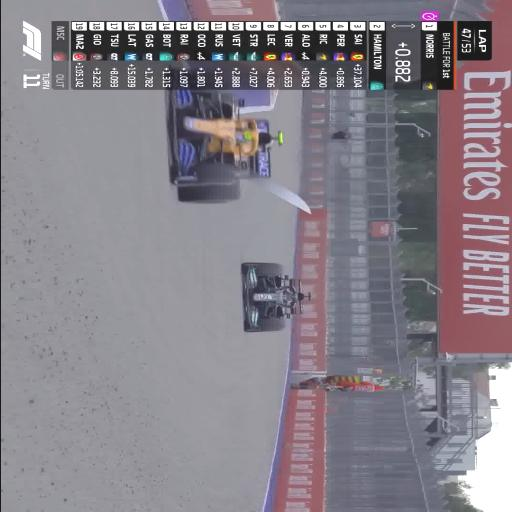f1_car: (171, 89, 283, 203), (241, 262, 310, 332)
